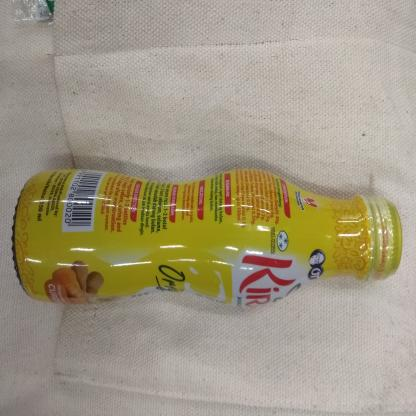bottle: (10, 160, 405, 319)
